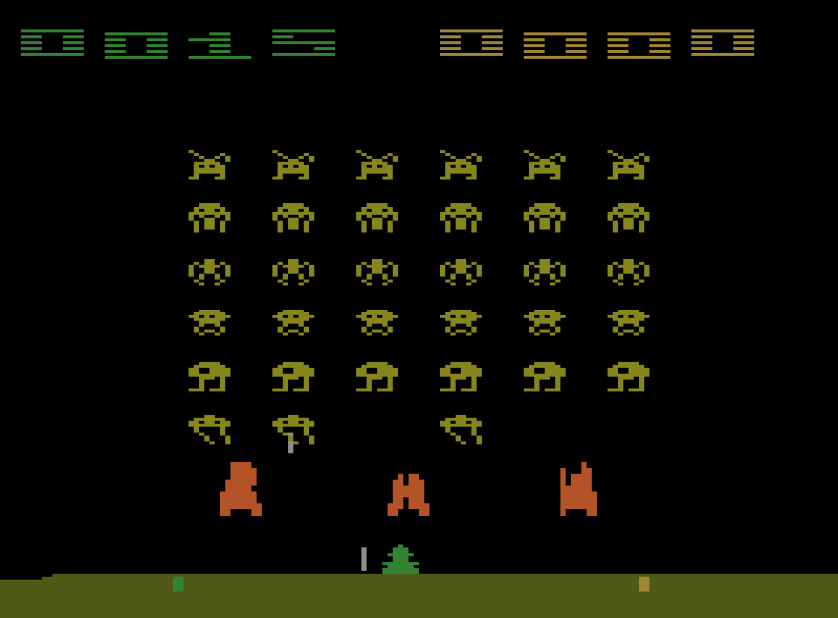bullet: (360, 544, 368, 572), (288, 434, 293, 457)
invader1: (607, 148, 652, 182), (270, 148, 316, 181), (188, 147, 233, 180), (354, 148, 399, 181), (439, 147, 484, 180), (522, 148, 567, 181)
invader2: (186, 199, 234, 234), (270, 199, 316, 235), (439, 199, 484, 235), (606, 199, 652, 234), (522, 200, 568, 234), (354, 200, 399, 234)
invader3: (352, 256, 401, 288), (521, 256, 569, 288), (186, 257, 233, 289), (270, 257, 317, 288), (606, 256, 652, 287), (438, 257, 484, 287)
invader4: (522, 307, 567, 339), (271, 307, 316, 338), (356, 307, 399, 339), (187, 307, 232, 337), (439, 308, 484, 338), (607, 308, 652, 337)
invader5: (521, 358, 568, 394), (186, 358, 233, 393), (271, 359, 316, 395), (605, 360, 652, 394), (354, 359, 400, 393), (437, 361, 484, 394)
invader6: (187, 411, 232, 447), (439, 412, 485, 447), (269, 413, 316, 447)
player: (382, 543, 420, 575)
